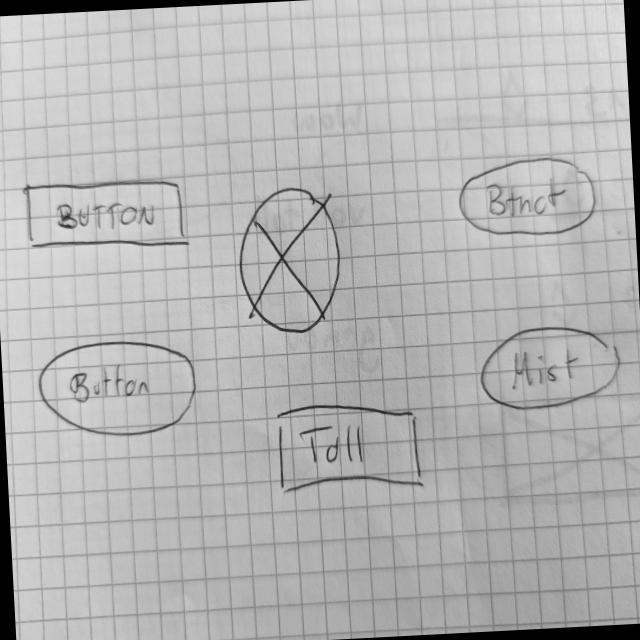button: (39, 335, 205, 444), (271, 400, 430, 500), (22, 174, 194, 258), (478, 322, 624, 414), (455, 154, 600, 243)
image: (232, 183, 349, 338)
